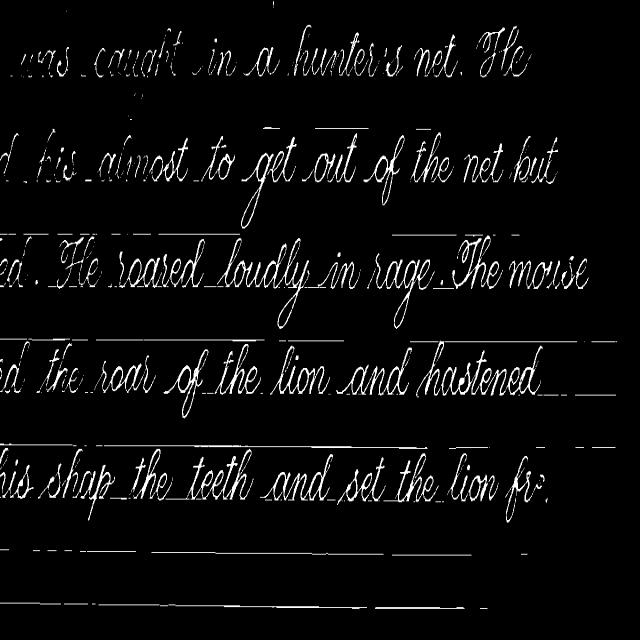noise: (0, 601, 466, 612), (145, 548, 473, 558), (94, 444, 428, 452), (0, 336, 266, 343), (30, 548, 142, 555), (443, 340, 578, 345), (310, 125, 382, 133), (538, 391, 616, 396), (156, 232, 240, 236), (518, 548, 536, 566), (390, 232, 458, 236), (278, 340, 344, 344), (0, 443, 78, 446), (410, 340, 440, 347), (381, 487, 396, 501), (408, 127, 433, 133), (326, 489, 336, 502), (262, 125, 280, 132), (448, 445, 490, 448), (0, 541, 10, 552), (126, 232, 152, 236), (24, 232, 50, 236), (590, 340, 616, 344), (590, 445, 616, 449), (306, 281, 318, 288), (478, 604, 490, 611), (56, 232, 75, 236), (464, 232, 482, 236), (204, 282, 216, 288), (79, 232, 96, 236), (433, 286, 454, 289), (201, 392, 214, 396), (574, 445, 586, 449), (111, 497, 127, 500), (435, 498, 444, 503), (110, 232, 121, 236), (536, 445, 546, 449), (166, 498, 186, 500), (48, 284, 57, 288), (510, 233, 519, 236)
not-noise: (20, 25, 531, 104), (240, 133, 404, 228), (22, 133, 238, 184), (216, 237, 310, 329), (0, 444, 114, 519), (451, 236, 587, 289), (416, 341, 542, 396), (370, 253, 434, 328), (460, 136, 558, 183), (461, 137, 558, 183), (118, 239, 204, 287), (336, 348, 411, 395), (186, 449, 253, 500), (261, 454, 332, 500), (505, 455, 548, 523), (166, 349, 208, 418), (271, 347, 329, 394), (121, 449, 172, 499), (448, 452, 498, 501), (37, 341, 84, 393), (56, 235, 102, 288), (93, 356, 156, 393), (215, 344, 261, 394), (336, 457, 386, 502), (410, 132, 454, 183), (394, 453, 438, 501), (0, 446, 34, 499), (0, 233, 31, 287), (0, 340, 30, 393), (318, 252, 360, 289), (0, 133, 18, 176), (36, 279, 38, 284), (441, 280, 443, 285)
